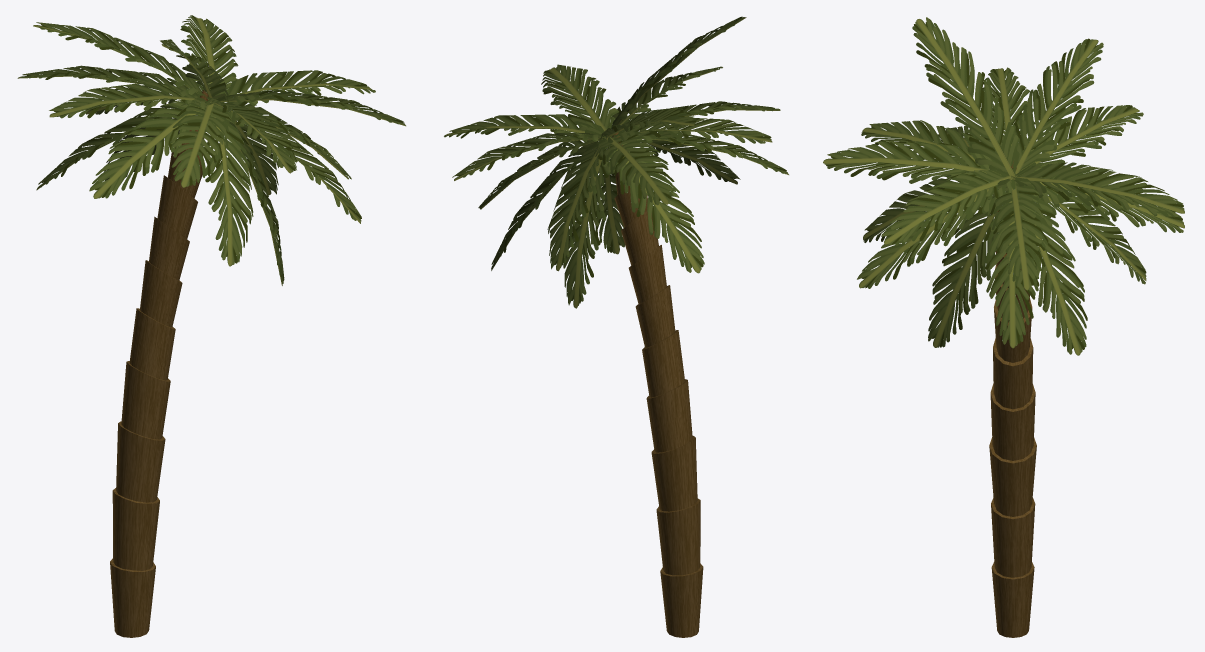
Rendered from Palmier.fbx.
The picture shows the model from 3 angles, left to right: view 1: azimuth 30°, elevation 25°; view 2: azimuth 150°, elevation 25°; view 3: azimuth 270°, elevation 25°; orthographic projection. The views are drawn at different scales.
Parts seen in each view (by area): view 1: Palmier; view 2: Palmier; view 3: Palmier.
Boxes of the visible parts, <box> form: Palmier: <box>17,15,405,637</box>; Palmier: <box>444,16,788,637</box>; Palmier: <box>823,17,1184,637</box>.
Size of the model in its own units: 114 by 201 by 111.
1 material, 1 textured.
